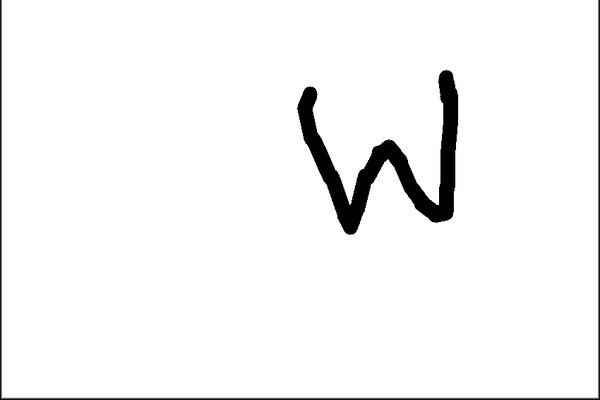w: (276, 56, 469, 242)
